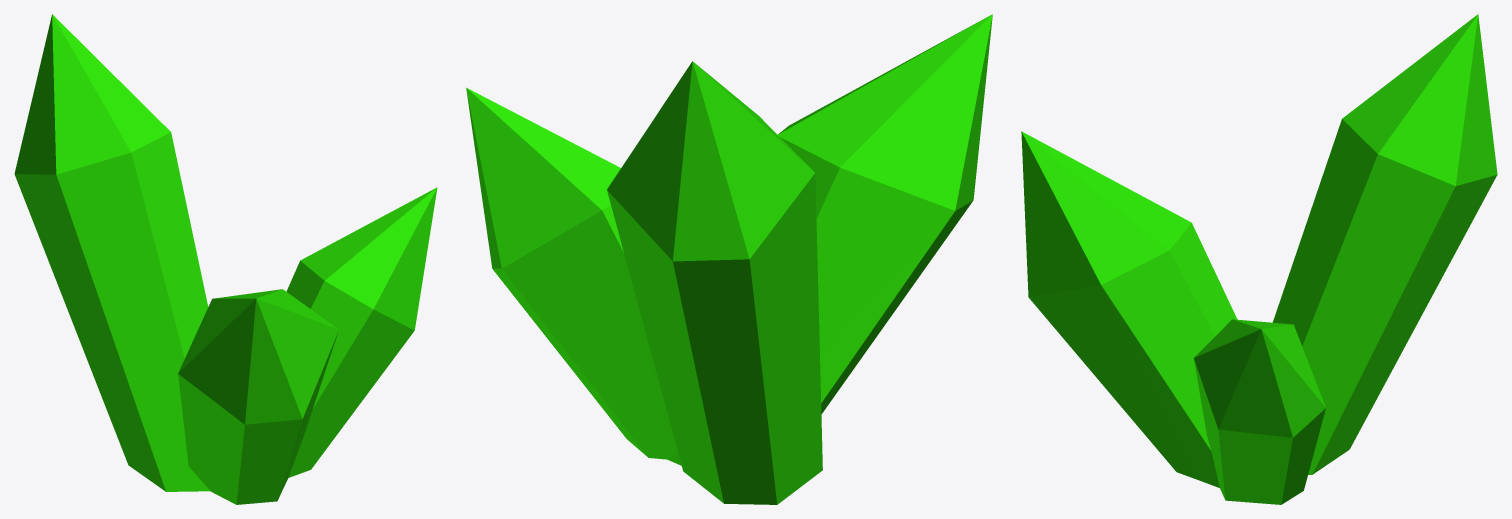
The model's file is cave_crystal1.glb.
3 views of the same model, side by side, from view 1: azimuth 30°, elevation 25°; view 2: azimuth 150°, elevation 25°; view 3: azimuth 270°, elevation 25° (orthographic). The views are drawn at different scales.
Visible parts, largest first — view 1: Crystal-01-col; view 2: Crystal-01-col; view 3: Crystal-01-col.
Part boxes in pixels (x1,y1,x2,y2): Crystal-01-col: [14, 14, 437, 504]; Crystal-01-col: [466, 14, 992, 504]; Crystal-01-col: [1021, 14, 1497, 504].
Size of the model in its own units: 0.9483 by 1.11 by 1.15.
